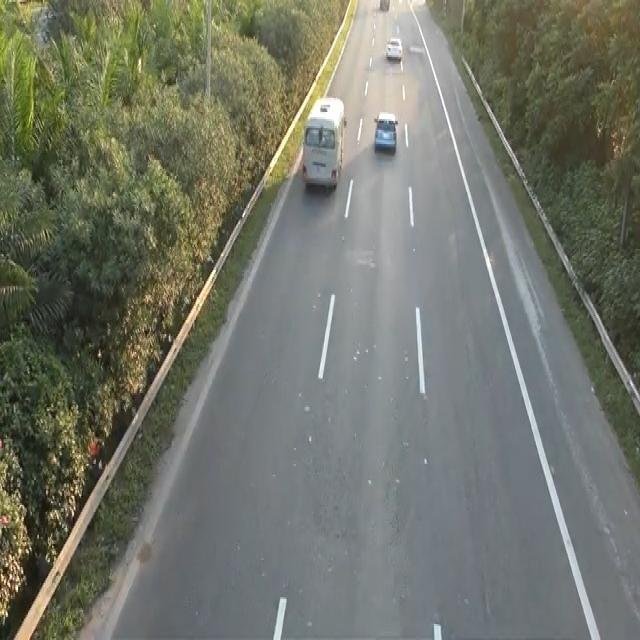bus: (372, 108, 398, 153)
jeep: (300, 92, 347, 192)
